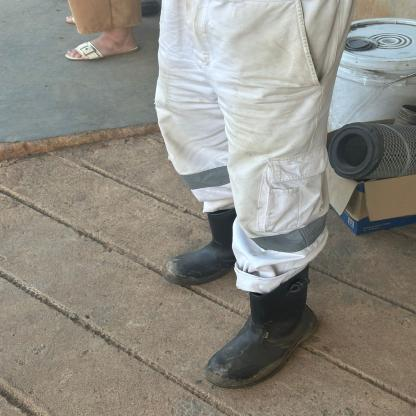bota: (195, 270, 316, 391), (148, 206, 247, 284)
